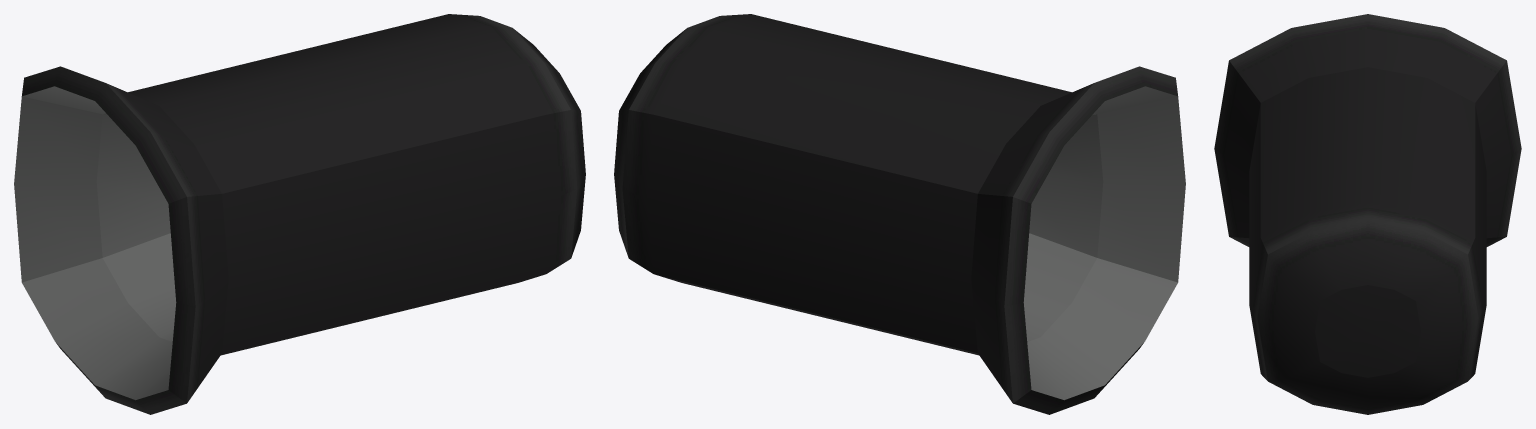
The model's file is stage light old.glb.
The picture shows the model from 3 angles, left to right: view 1: azimuth 30°, elevation 25°; view 2: azimuth 150°, elevation 25°; view 3: azimuth 270°, elevation 25°; orthographic projection. The views are drawn at different scales.
Parts seen in each view (by area): view 1: StageLight_Can_Body; view 2: StageLight_Can_Body; view 3: StageLight_Can_Body.
Boxes of the visible parts, x1,y1,x2,y2 form: StageLight_Can_Body: [14, 14, 585, 414]; StageLight_Can_Body: [614, 14, 1185, 414]; StageLight_Can_Body: [1214, 14, 1521, 414].
Size of the model in its own units: 0.9059 by 0.6015 by 0.6222.
1 material, 1 textured.
